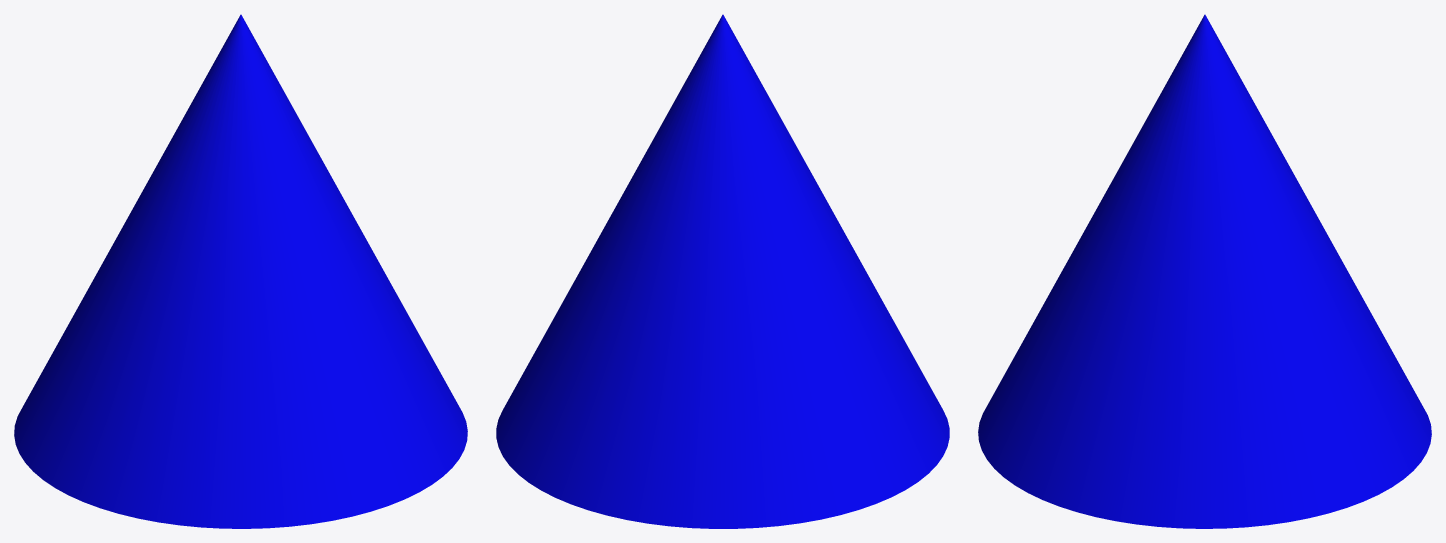
3 renders of one model, left to right at view 1: azimuth 30°, elevation 25°; view 2: azimuth 150°, elevation 25°; view 3: azimuth 270°, elevation 25°, orthographic.
Size of the model in its own units: 2.38 by 2.42 by 2.38.
